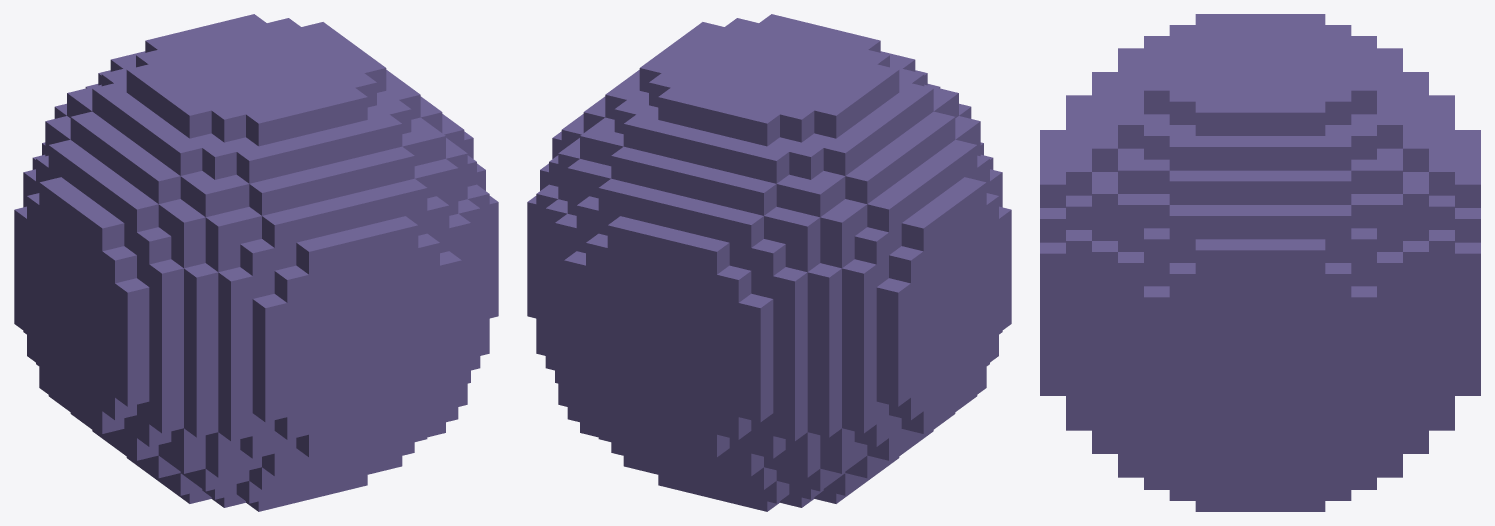
The model's file is Sphere_vox.fbx.
3 renders of one model, left to right at view 1: azimuth 30°, elevation 25°; view 2: azimuth 150°, elevation 25°; view 3: azimuth 270°, elevation 25°, orthographic. The views are drawn at different scales.
Parts seen in each view (by area): view 1: Sphere_vox; view 2: Sphere_vox; view 3: Sphere_vox.
Part boxes in pixels (x1=…): Sphere_vox: x1=14, y1=14, x2=498, y2=511; Sphere_vox: x1=527, y1=14, x2=1011, y2=511; Sphere_vox: x1=1040, y1=14, x2=1480, y2=511.
Size of the model in its own units: 170 by 170 by 170.
